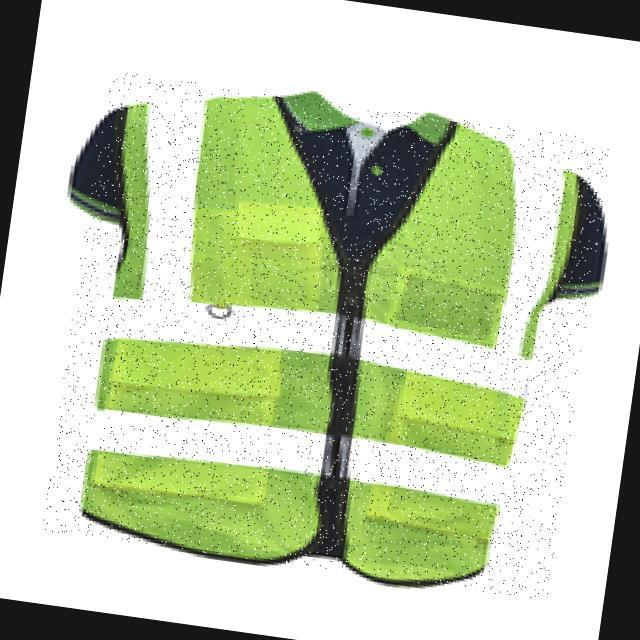vest: (43, 70, 613, 601)
